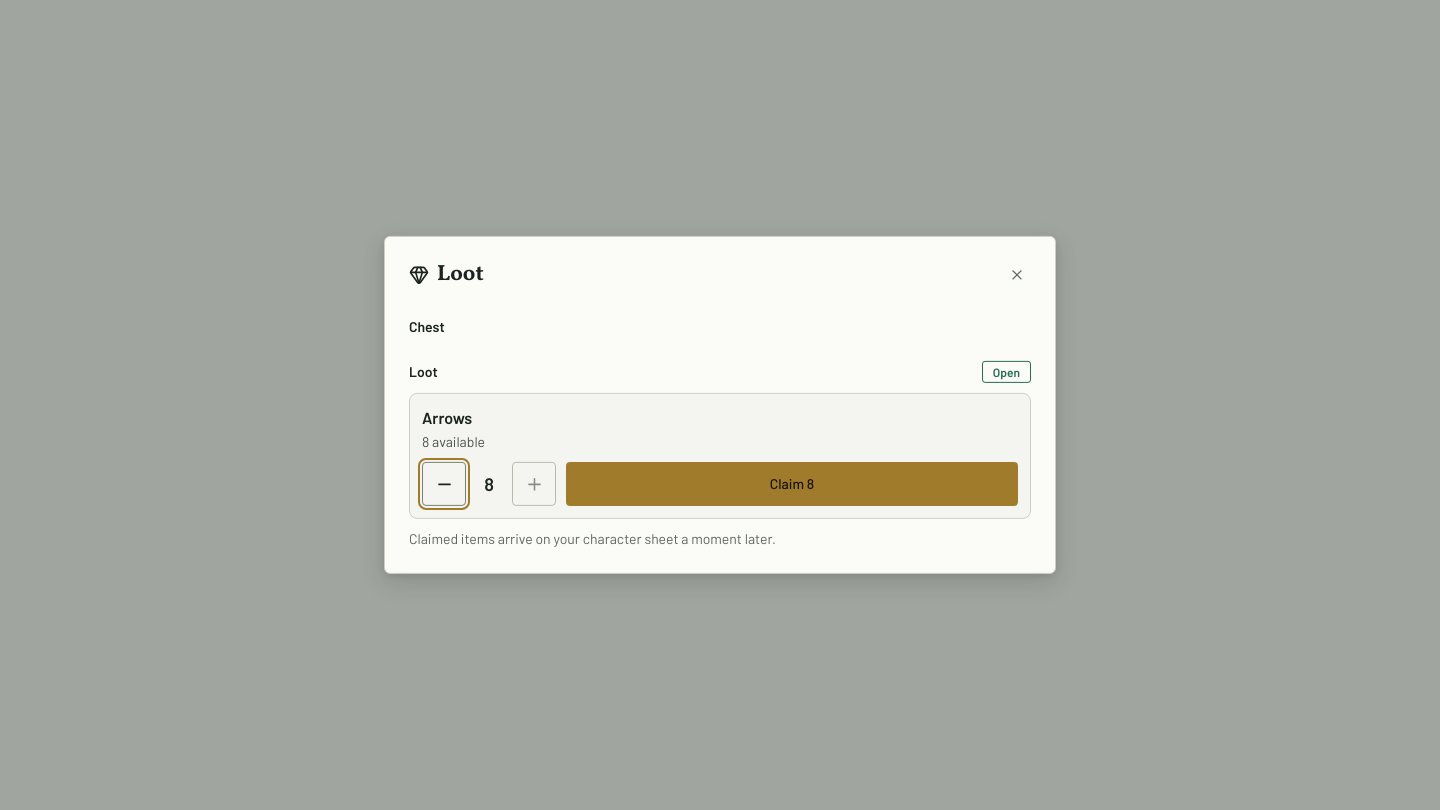
MarkerDetailPanel player loot: locked container and quantity stepper › reports a partial grant instead of a flat "Claimed." when fewer units were available than requested
Click the button "Claim 8".
click(792, 484)  # box [566,462,1018,506]
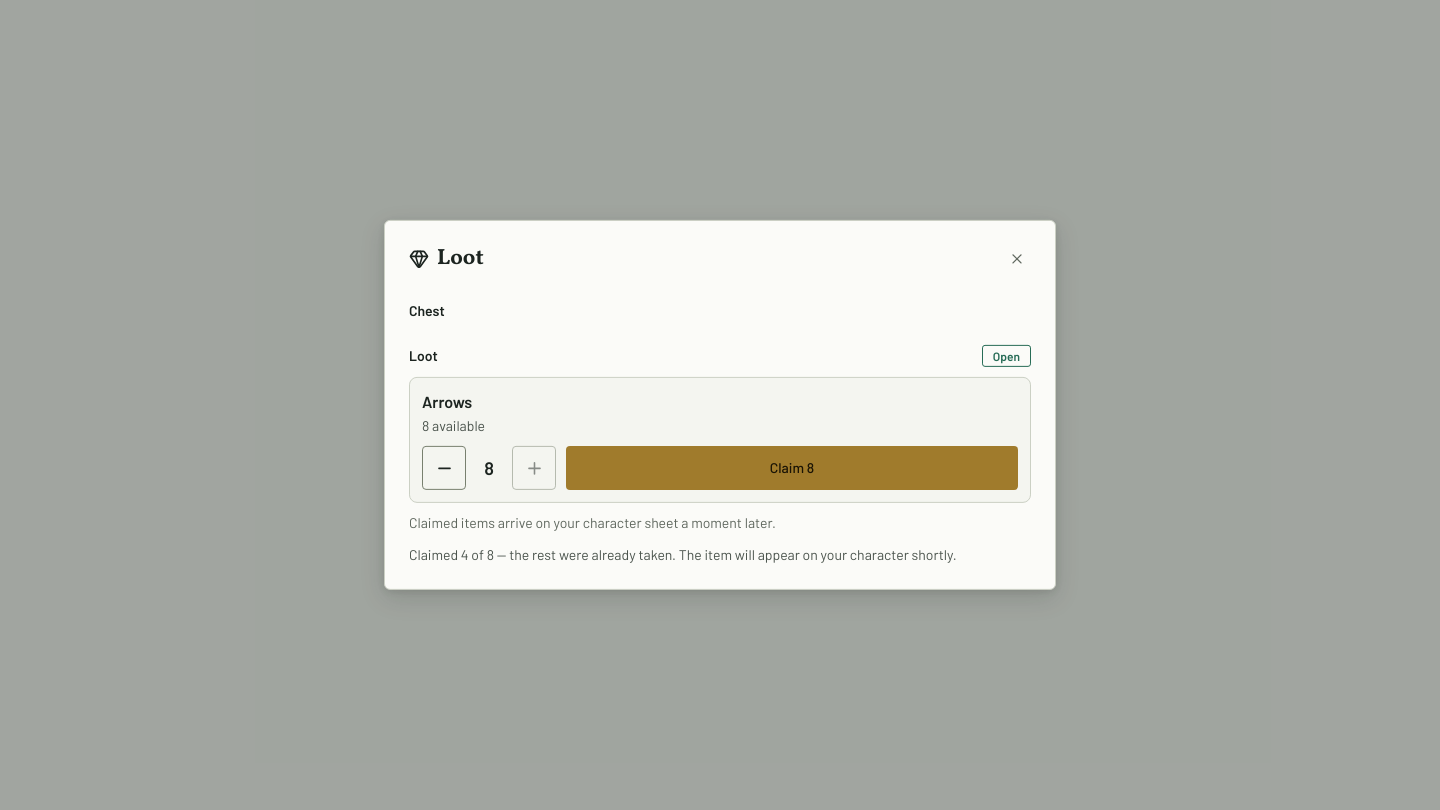
Check: the message shows "Claimed 4 of 8", box [409,546,957,563]
